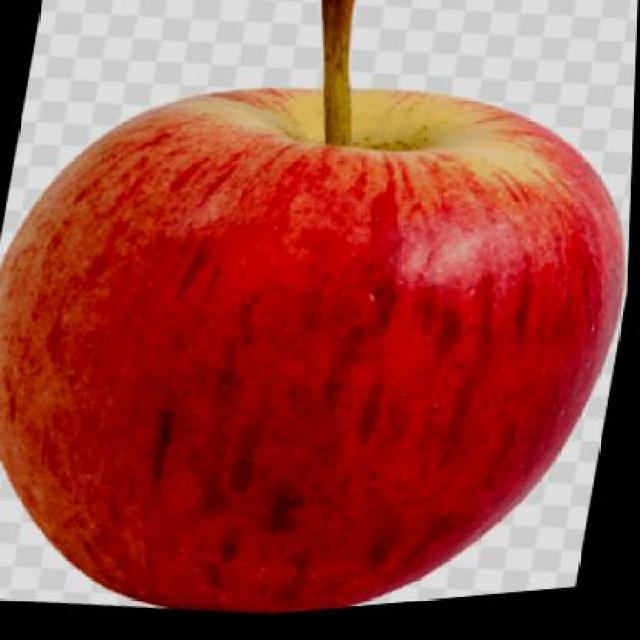Fresh Apple: (15, 89, 614, 620)
